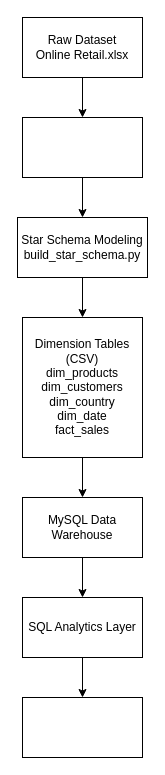
The diagram is 165 pixels wide and 775 high, and some of its shapes have lost their labels. Here are the shapes that lost their labels. From the top down, the centre of each, then its label:
the point at 82,147: Python Data Cleaning prepare_data.py
the point at 82,727: BI Dashboards (Future Work)
